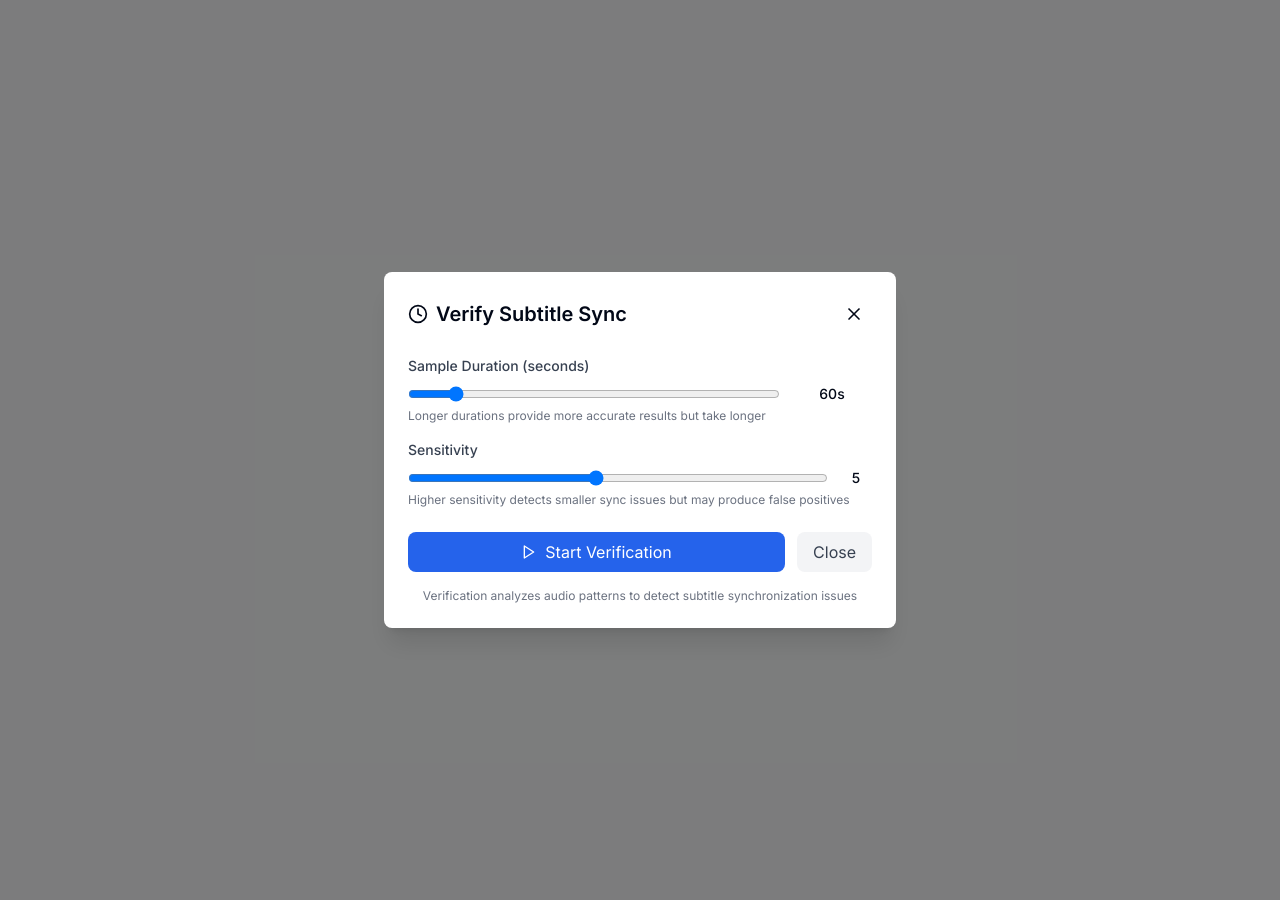
SubtitleSyncModal › Verification flow › displays perfect sync result
Click the button "Start Verification" at (597, 552), box [408,532,785,572]
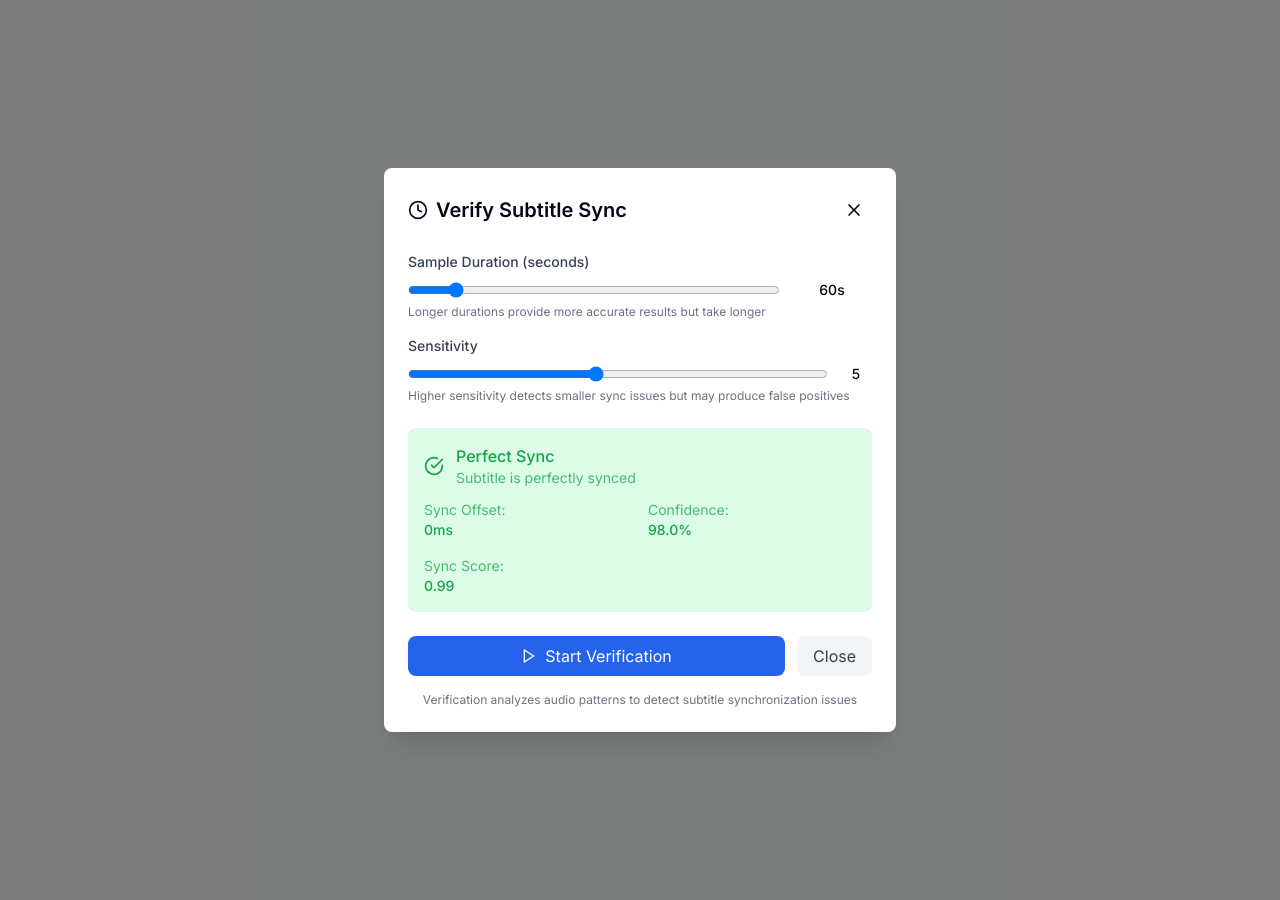
Result: the text "Subtitle is perfectly synced" is shown at [456,468,636,488]
Result: the text "perfect Sync" is shown at [456,446,554,466]
Result: the text "0ms" is shown at [424,521,453,538]
